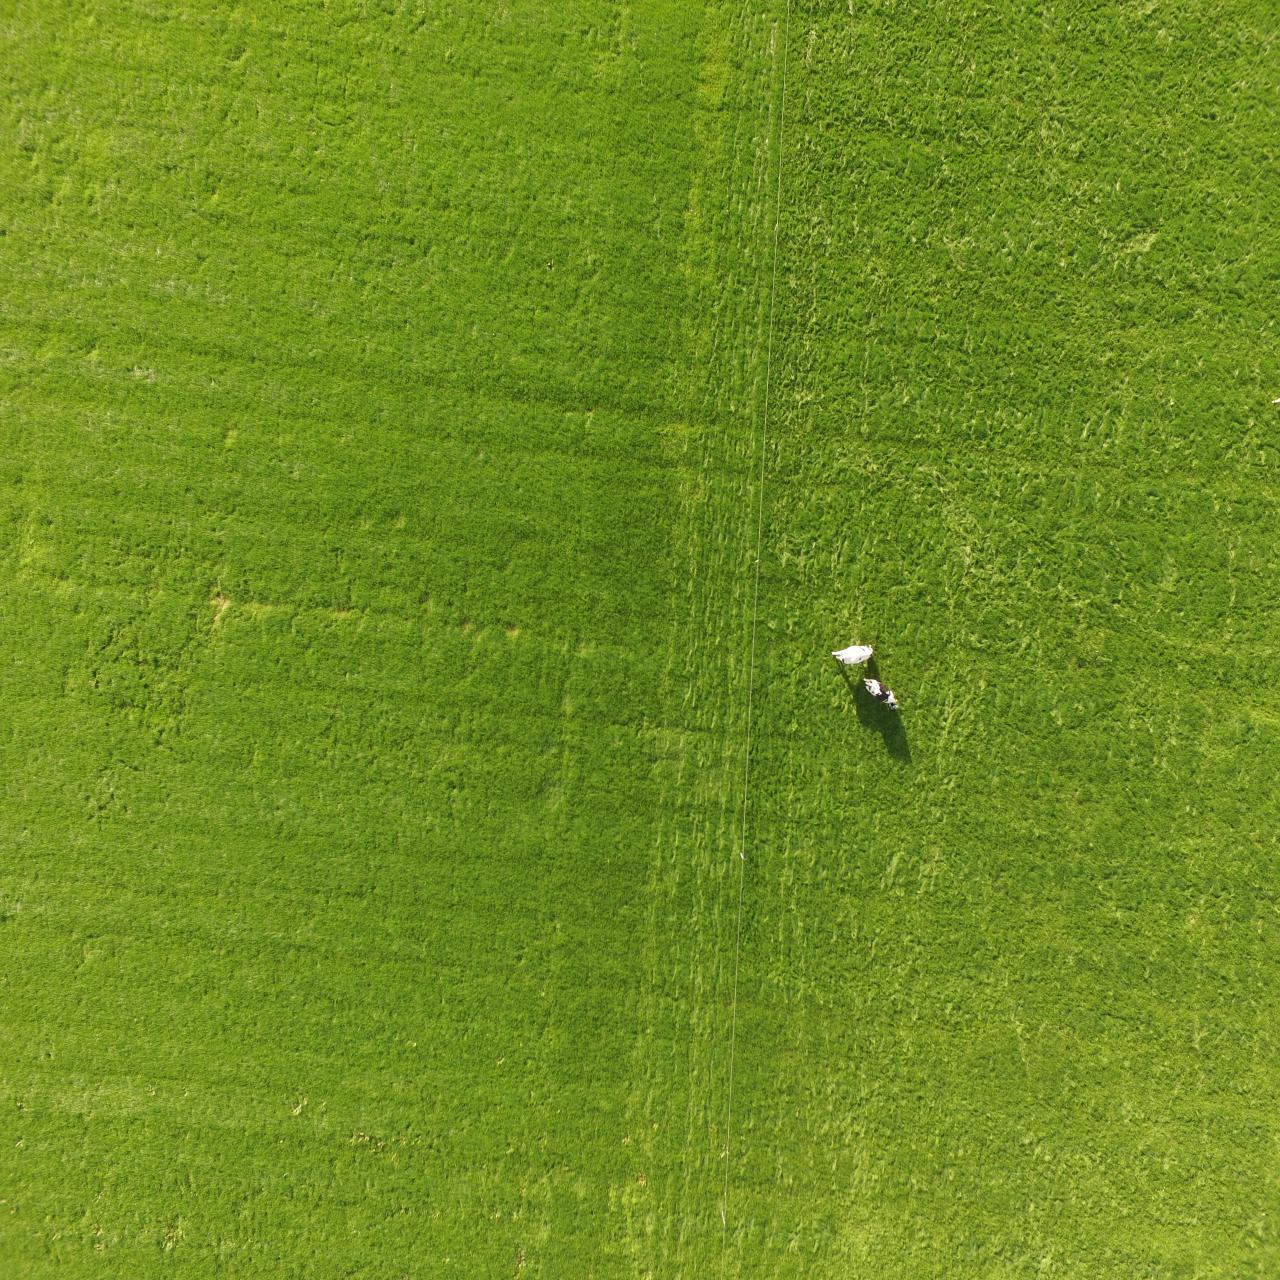cow: (862, 676, 898, 710), (831, 641, 874, 664)
